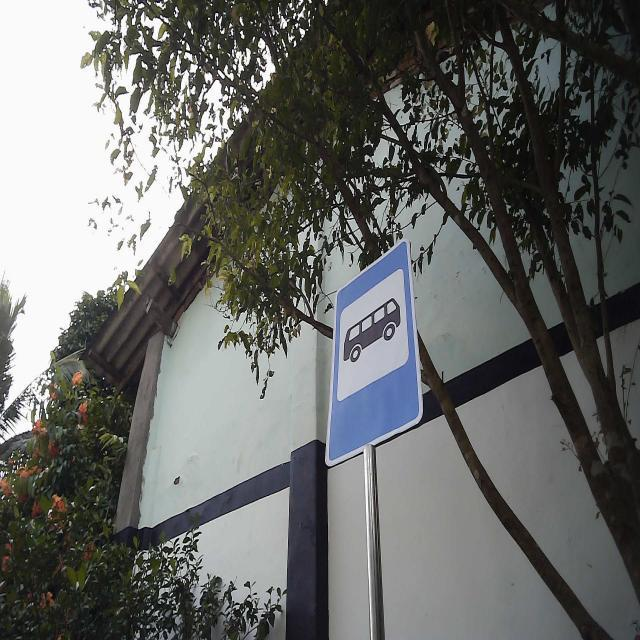bus_stop: (324, 236, 426, 469)
